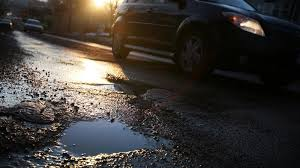pothole: (9, 98, 175, 168)
